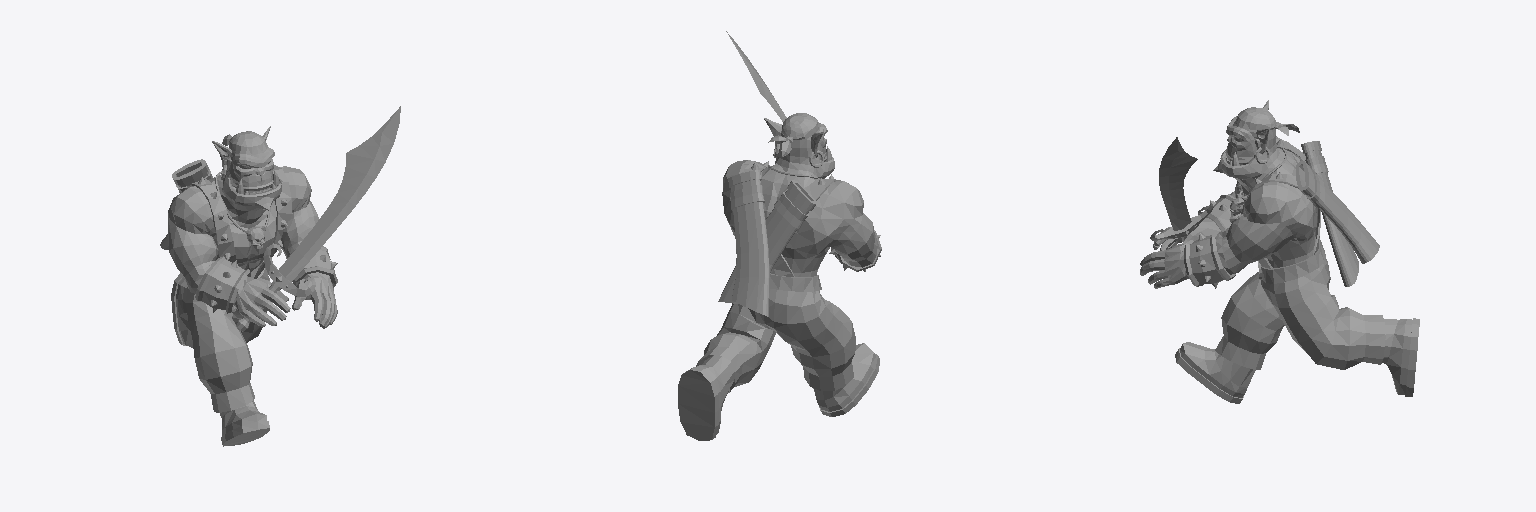
Rendered from sinbad_000007.obj.
The picture shows the model from 3 angles: view 1: azimuth 30°, elevation 25°; view 2: azimuth 150°, elevation 25°; view 3: azimuth 270°, elevation 25°; orthographic projection.
Visible parts, largest first — view 1: Sinbad, Sword; view 2: Sinbad, Sword; view 3: Sinbad, Sword.
Part boxes in pixels (x1,y1,x2,y2): Sinbad: (160,126,337,446); Sword: (236,106,400,331); Sinbad: (678,113,881,440); Sword: (726,31,786,121); Sinbad: (1140,100,1419,403); Sword: (1150,137,1213,241).
Bounding box in the file's own units: 5.67 × 9.55 × 7.36.